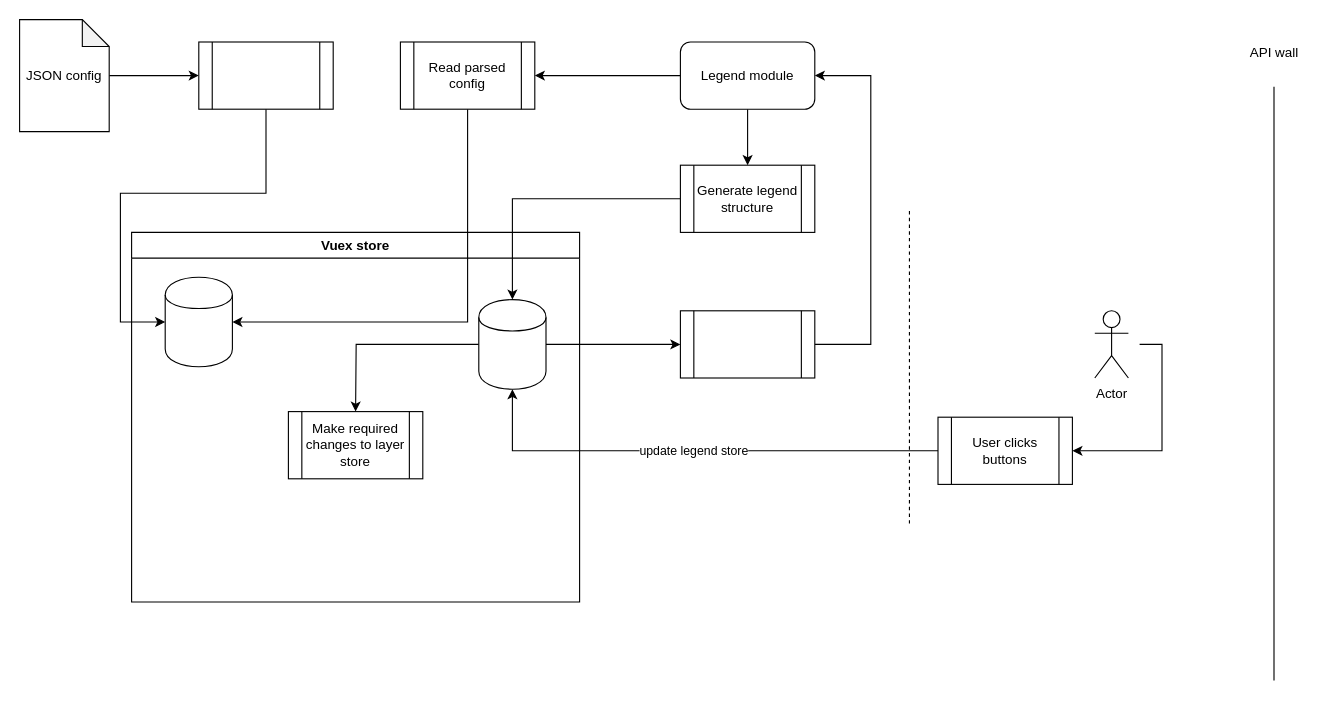
The diagram is 1327 pixels wide and 701 high, and some of its shapes have lost their labels. The centre of each missing label's shape, as x and y in pixels:
Config store module: (198,321)
Legend store module: (512,343)
Parse JSON config on load: (265,75)
Render legend UI: (747,344)
